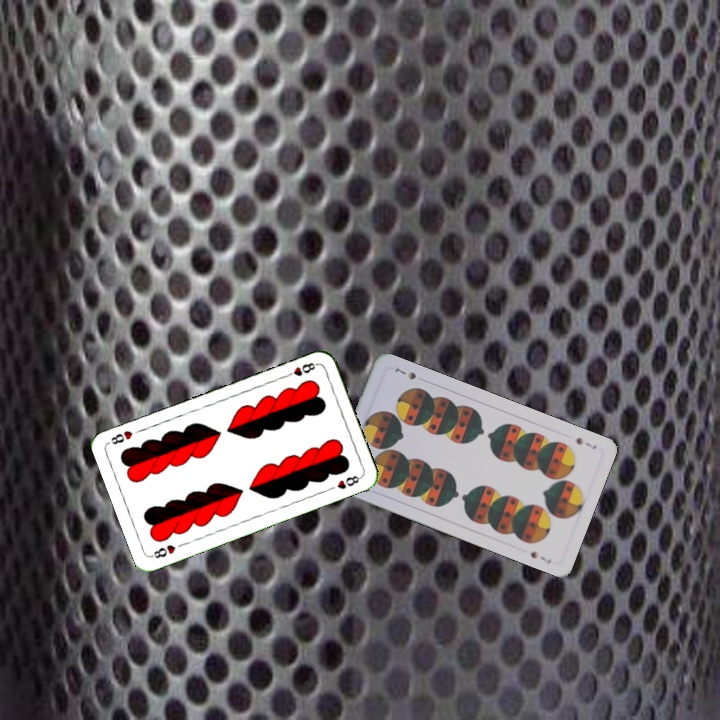H8: (281, 358, 320, 380), (147, 540, 178, 561)
S7: (572, 433, 599, 452)
